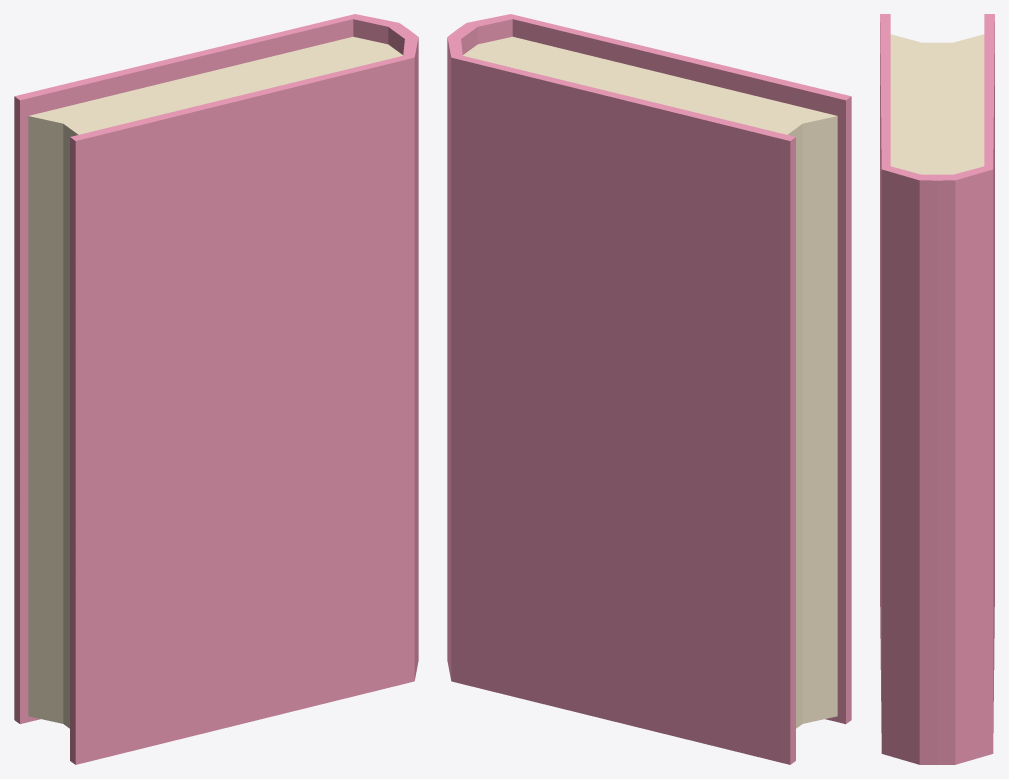
File: Book_09.fbx
The picture shows the model from 3 angles, left to right: view 1: azimuth 30°, elevation 25°; view 2: azimuth 150°, elevation 25°; view 3: azimuth 270°, elevation 25°; orthographic projection. The views are drawn at different scales.
Visible parts, largest first — view 1: Plane.223; view 2: Plane.223; view 3: Plane.223.
Part boxes in pixels (left/top/right/bottom): Plane.223: left=14, top=14, right=418, bottom=764; Plane.223: left=447, top=14, right=851, bottom=764; Plane.223: left=880, top=14, right=994, bottom=764.
Size of the model in its own units: 0.3167 by 0.0922 by 0.5182.
